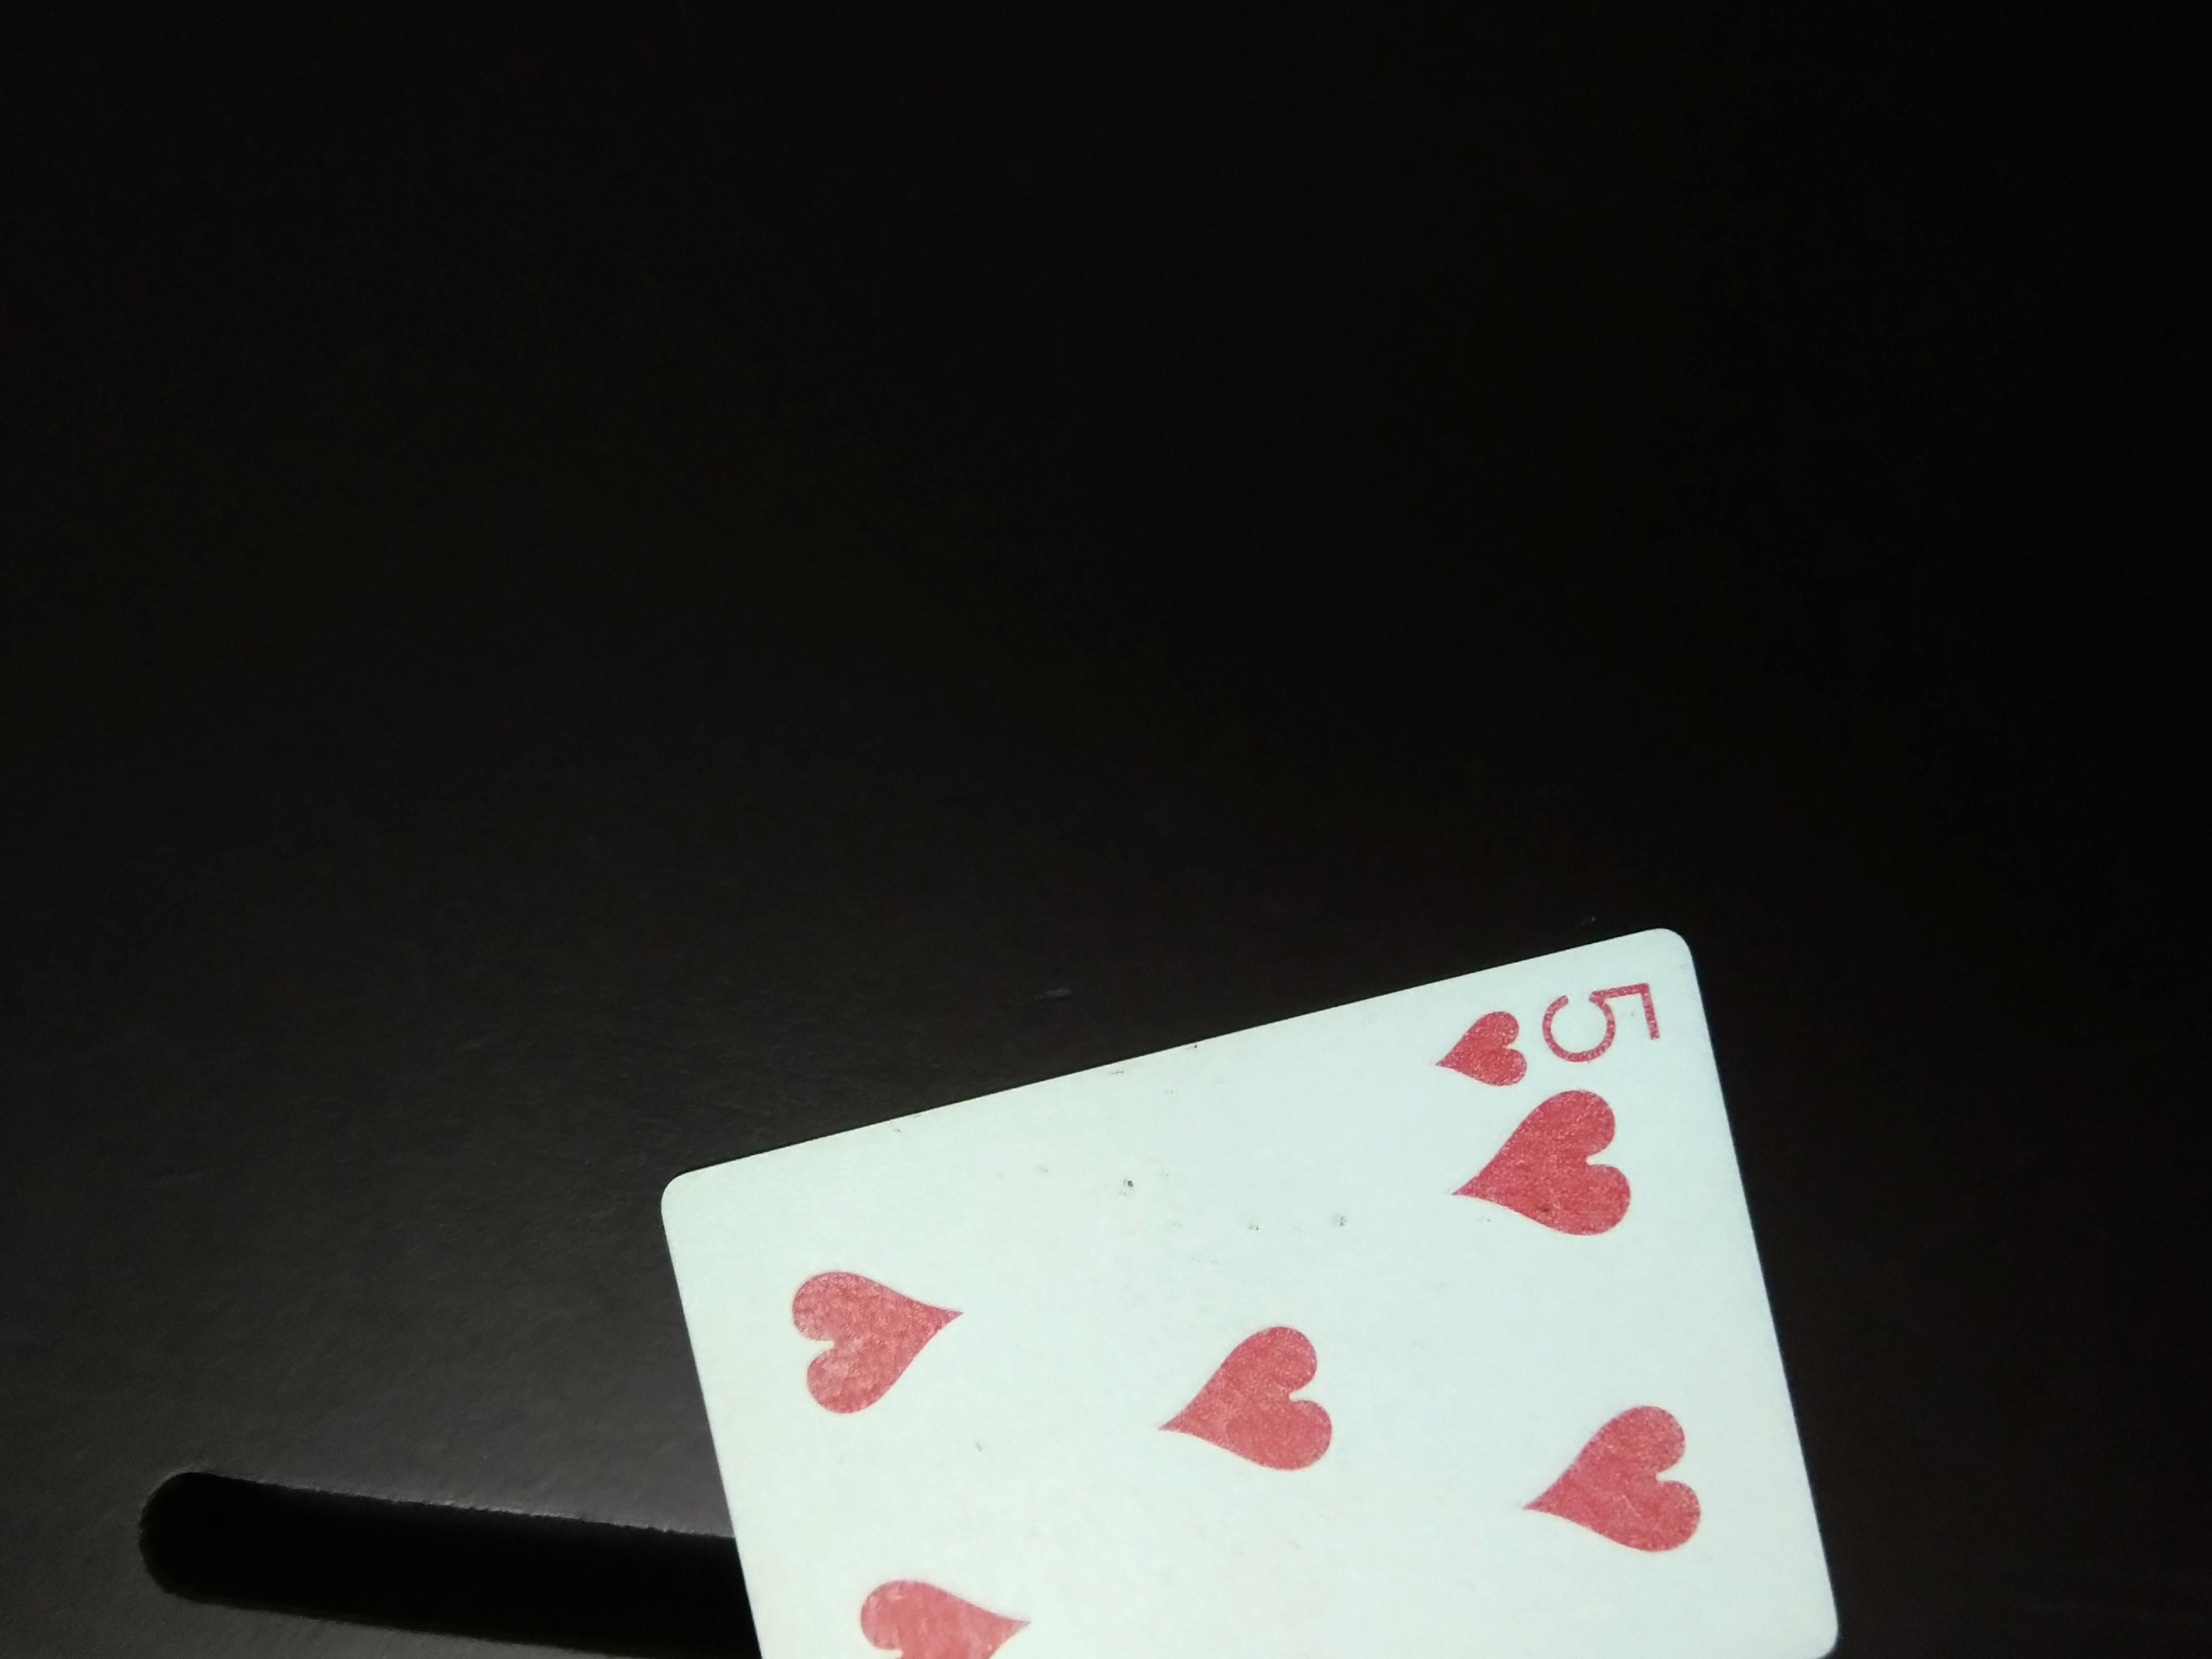5H: (1444, 962, 1677, 1103)
